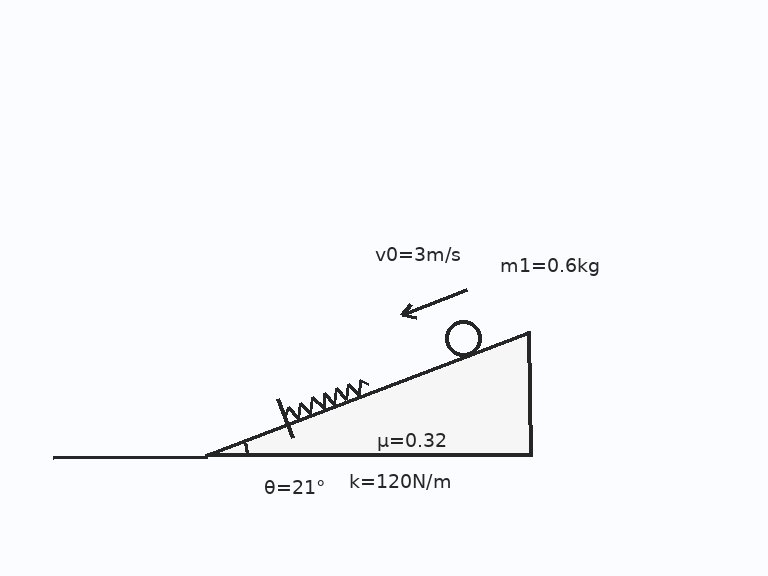ball: (443, 318, 483, 358)
ramp: (205, 329, 531, 457)
spring: (282, 377, 370, 420)
